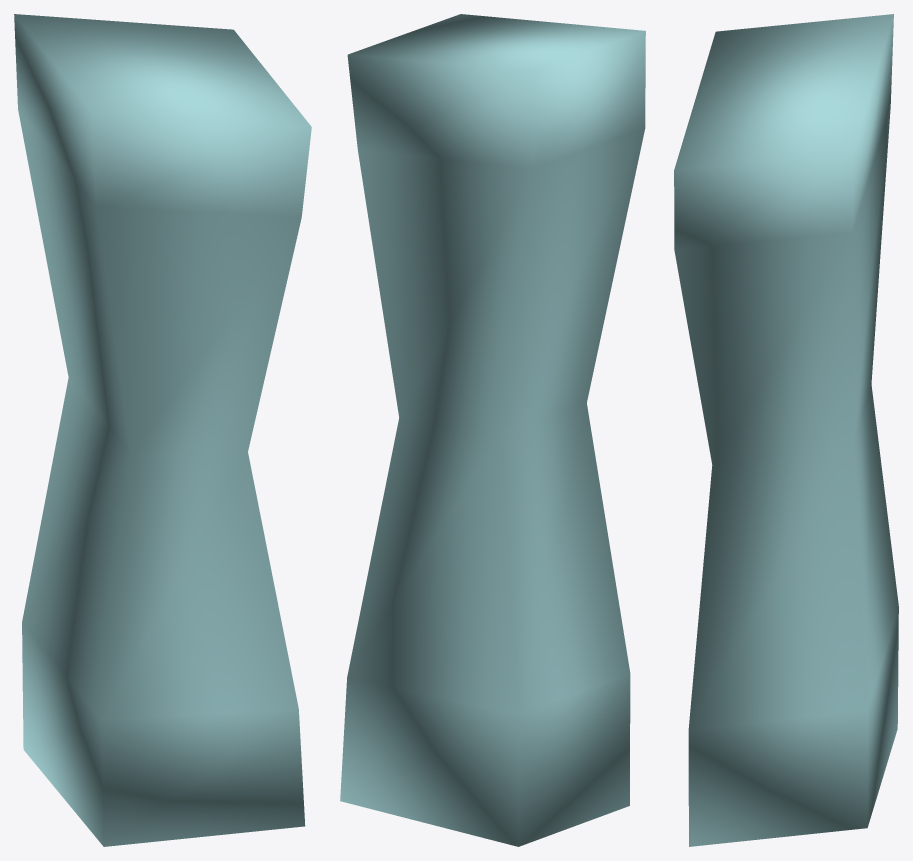
Rendered from Skelly_thumb.01.L.fbx.
The picture shows the model from 3 angles, left to right: view 1: azimuth 30°, elevation 25°; view 2: azimuth 150°, elevation 25°; view 3: azimuth 270°, elevation 25°; orthographic projection. The views are drawn at different scales.
Visible parts, largest first — view 1: Skelly_thumb.01.L; view 2: Skelly_thumb.01.L; view 3: Skelly_thumb.01.L.
Boxes of the visible parts, x1,y1,x2,y2 form: Skelly_thumb.01.L: [14, 14, 311, 846]; Skelly_thumb.01.L: [340, 14, 645, 846]; Skelly_thumb.01.L: [674, 14, 898, 846].
Size of the model in its own units: 1.11 by 3.88 by 1.06.
